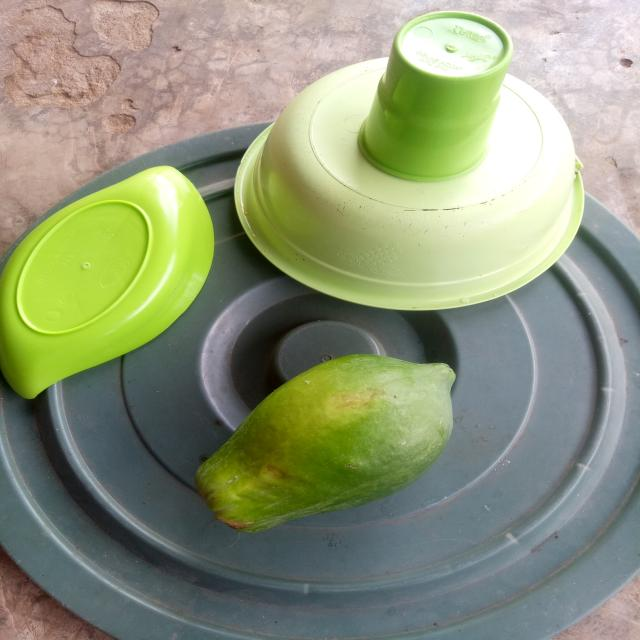Pepaya unrippen: (184, 351, 462, 535)
